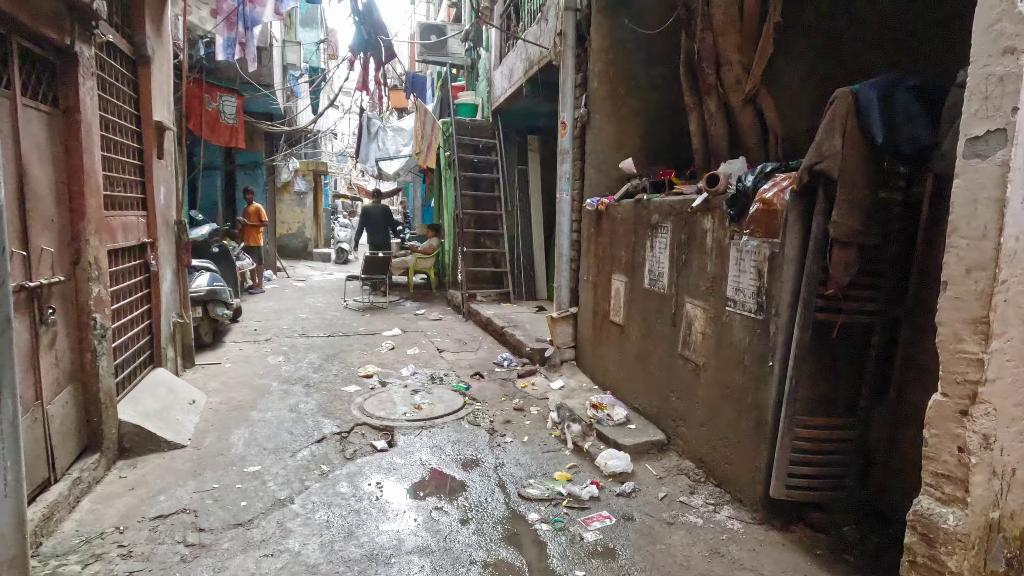garbage: (739, 169, 799, 252), (584, 393, 631, 427), (592, 448, 634, 478), (578, 509, 615, 530), (563, 482, 600, 500), (494, 352, 514, 368), (554, 469, 573, 482), (381, 326, 402, 336), (378, 341, 395, 353), (549, 379, 565, 391), (512, 398, 526, 410), (452, 383, 470, 392), (406, 345, 420, 356)
